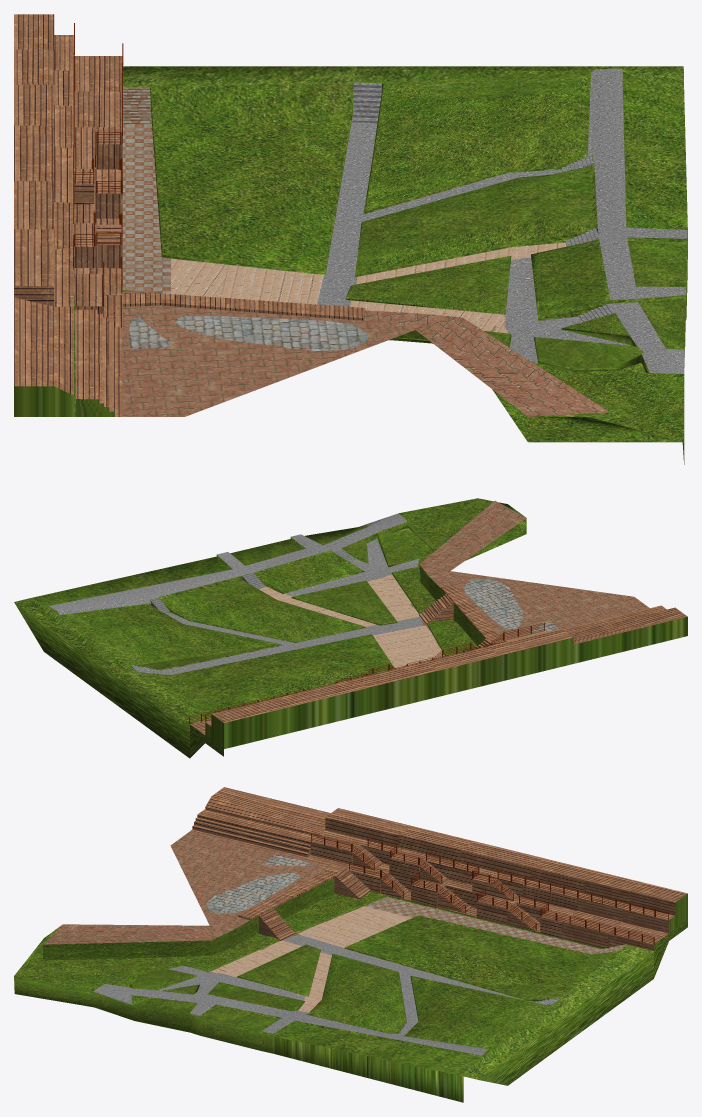
Rendered from terrass.fbx.
3 views of the same model, one above another, from view 1: azimuth 30°, elevation 25°; view 2: azimuth 150°, elevation 25°; view 3: azimuth 270°, elevation 25° (orthographic). The views are drawn at different scales.
Visible parts, largest first — view 1: terrarian, fence, polySurface56, polySurface23, polySurface47; view 2: terrarian, fence, polySurface49; view 3: terrarian, fence, polySurface20, polySurface49, polySurface47, polySurface40, polySurface39.
Boxes of the visible parts, left/top/right/bottom form: terrarian: left=14, top=14, right=687, bottom=464; fence: left=73, top=23, right=123, bottom=306; polySurface56: left=352, top=82, right=381, bottom=122; polySurface23: left=123, top=87, right=151, bottom=124; polySurface47: left=74, top=169, right=94, bottom=204; terrarian: left=14, top=498, right=687, bottom=758; fence: left=189, top=622, right=544, bottom=724; polySurface49: left=419, top=594, right=453, bottom=624; terrarian: left=14, top=787, right=687, bottom=1102; fence: left=311, top=834, right=668, bottom=944; polySurface20: left=334, top=867, right=370, bottom=899; polySurface49: left=259, top=908, right=295, bottom=940; polySurface47: left=472, top=874, right=518, bottom=900; polySurface40: left=507, top=904, right=540, bottom=930; polySurface39: left=437, top=887, right=471, bottom=912.
Size of the model in its own units: 0.7411 by 0.0785 by 0.7907.
1 material, 1 textured.
